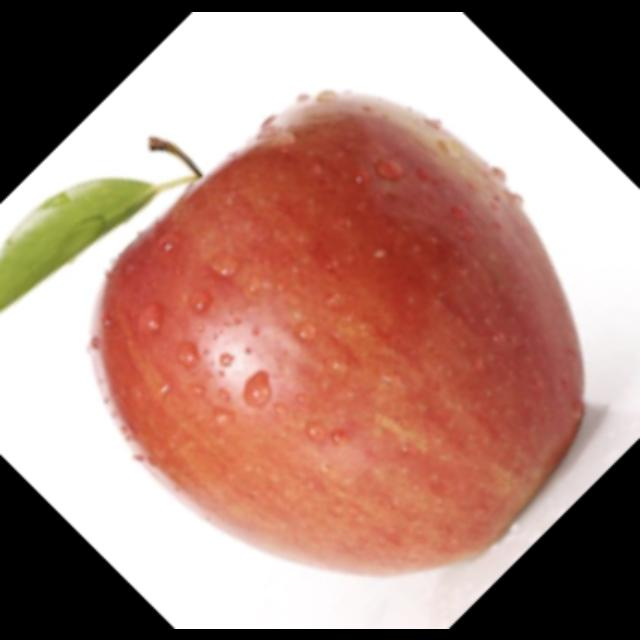Apel Segar: (89, 87, 586, 581)
